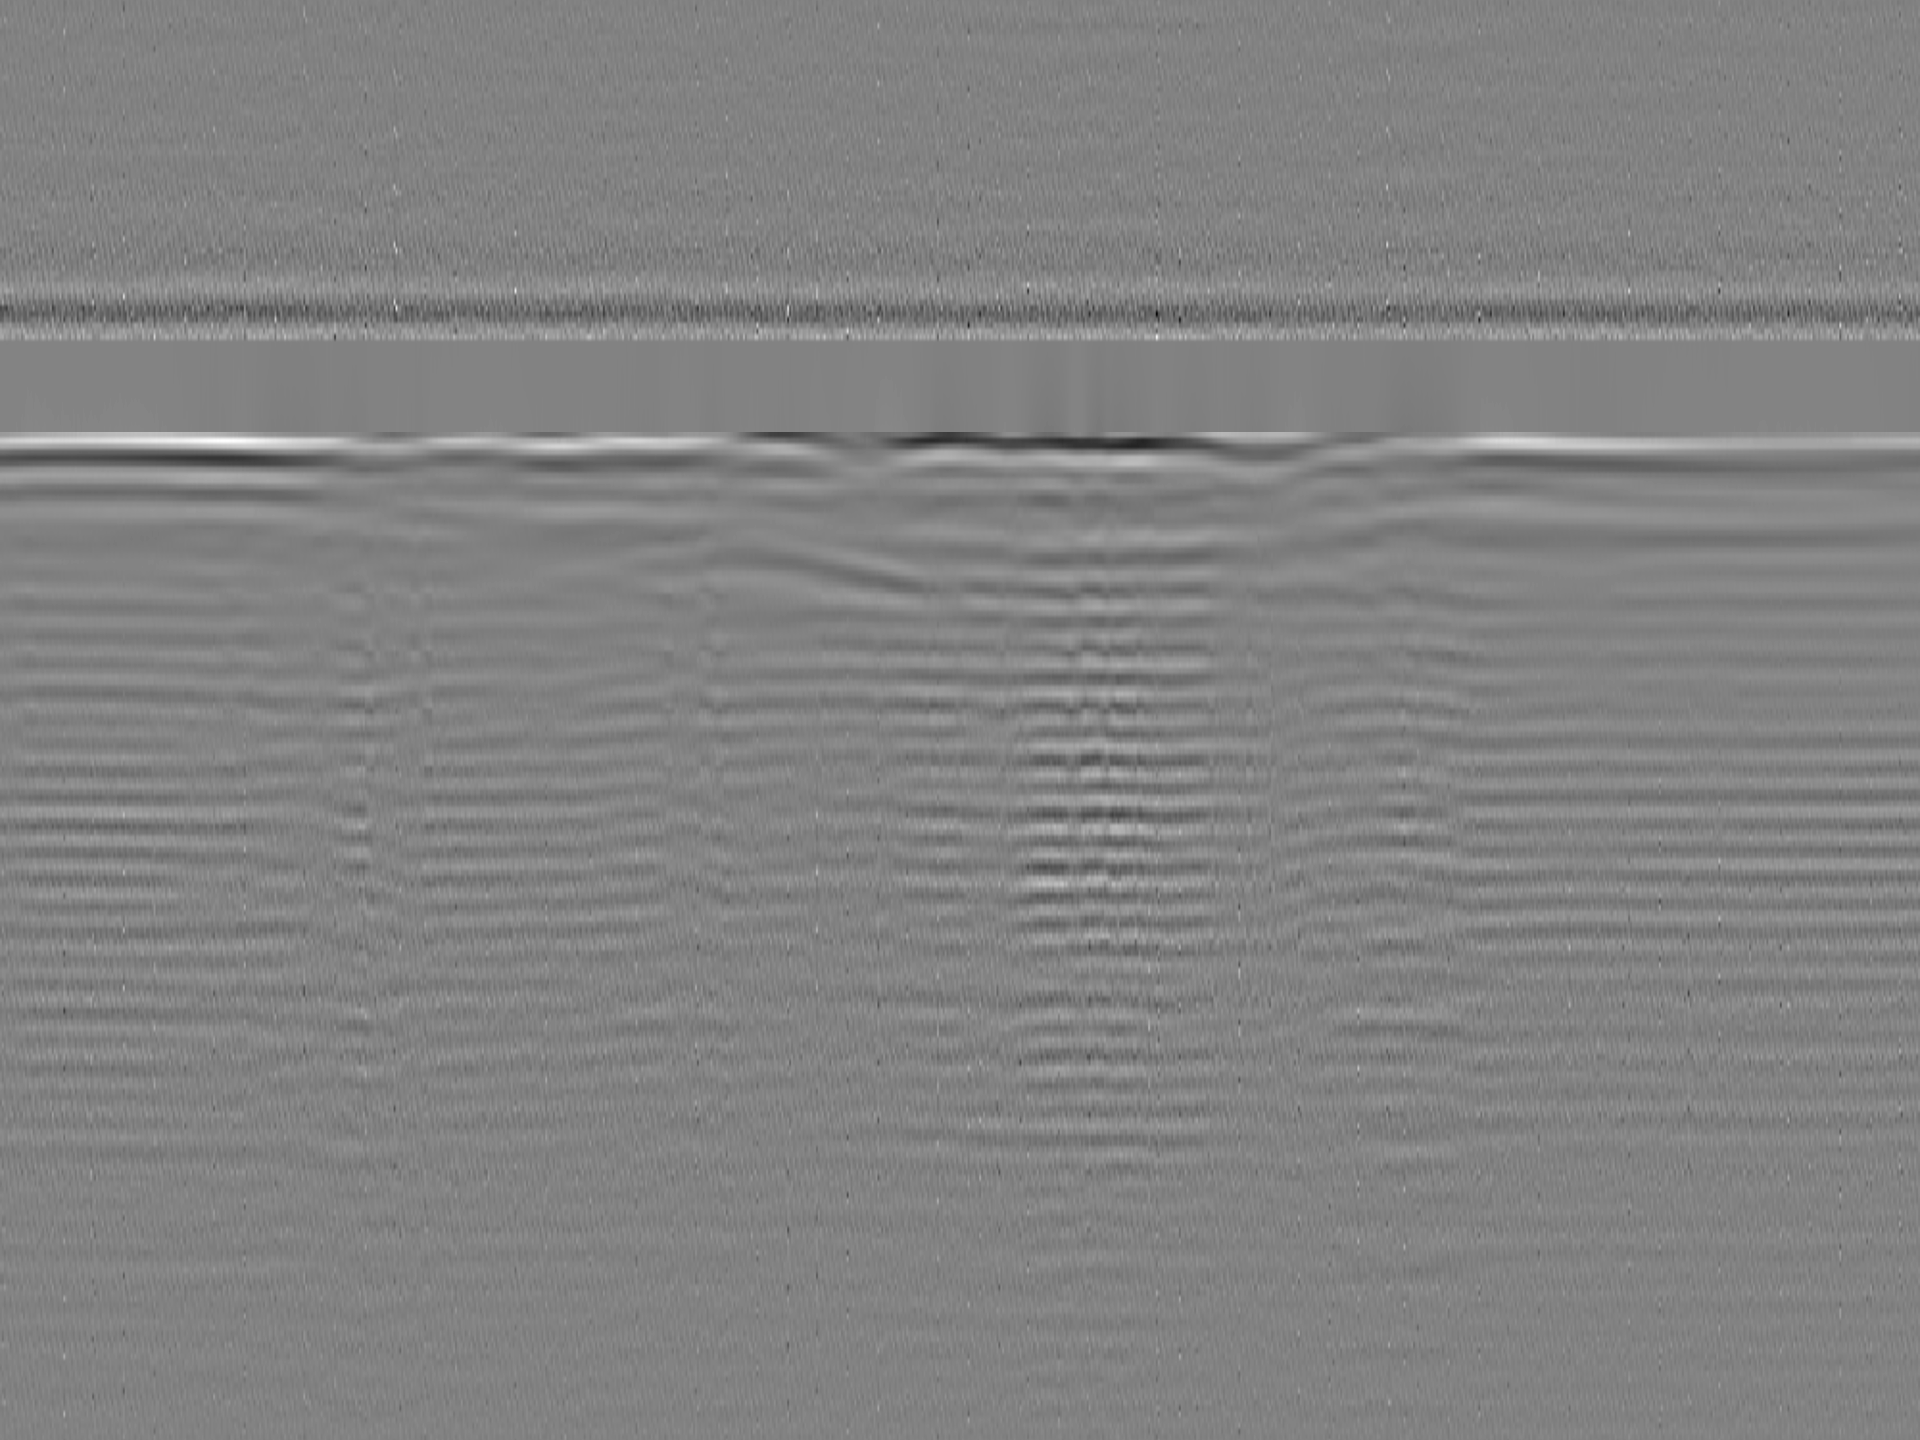Tunnel: (543, 529, 951, 611)
